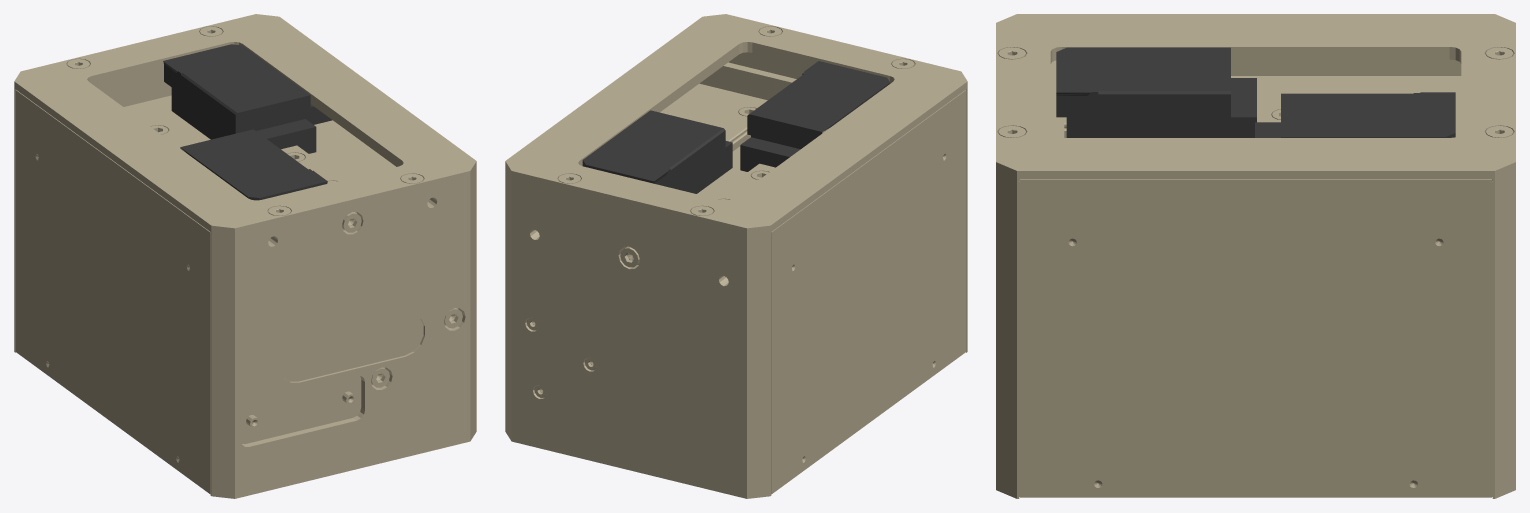
Rendered from gripper_schunk.dae.
3 renders of one model, left to right at view 1: azimuth 30°, elevation 25°; view 2: azimuth 150°, elevation 25°; view 3: azimuth 270°, elevation 25°, orthographic. The views are drawn at different scales.
Visible parts, largest first — view 1: Gripper_Schunk; view 2: Gripper_Schunk; view 3: Gripper_Schunk.
Part boxes in pixels (box(x1,y1,x2,y2)): Gripper_Schunk: box(14, 14, 476, 498); Gripper_Schunk: box(505, 14, 967, 498); Gripper_Schunk: box(996, 14, 1515, 498).
Size of the model in its own units: 80 by 112 by 78.
